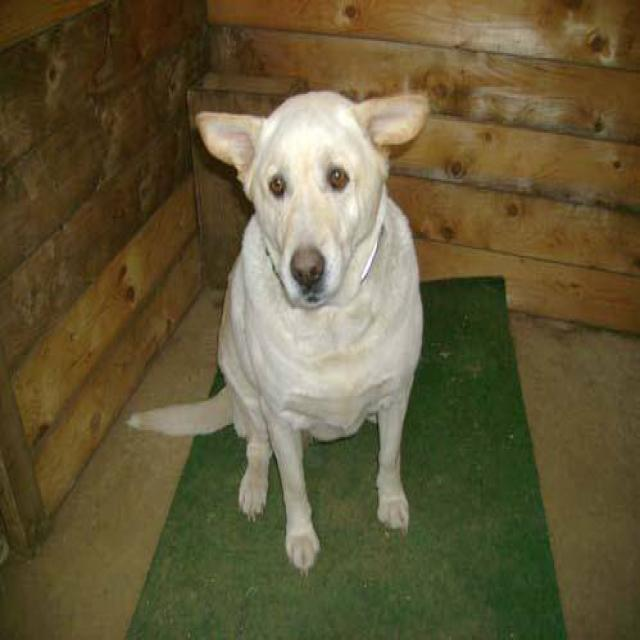dog: (124, 80, 430, 575)
